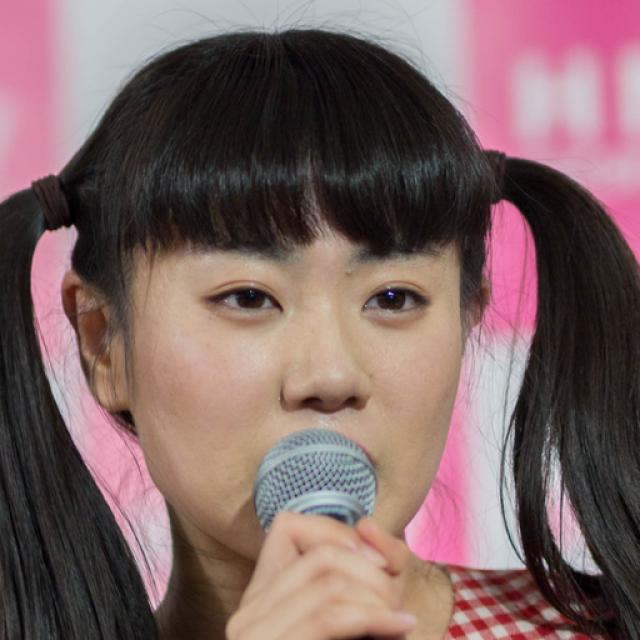neutral: (128, 137, 464, 535)
